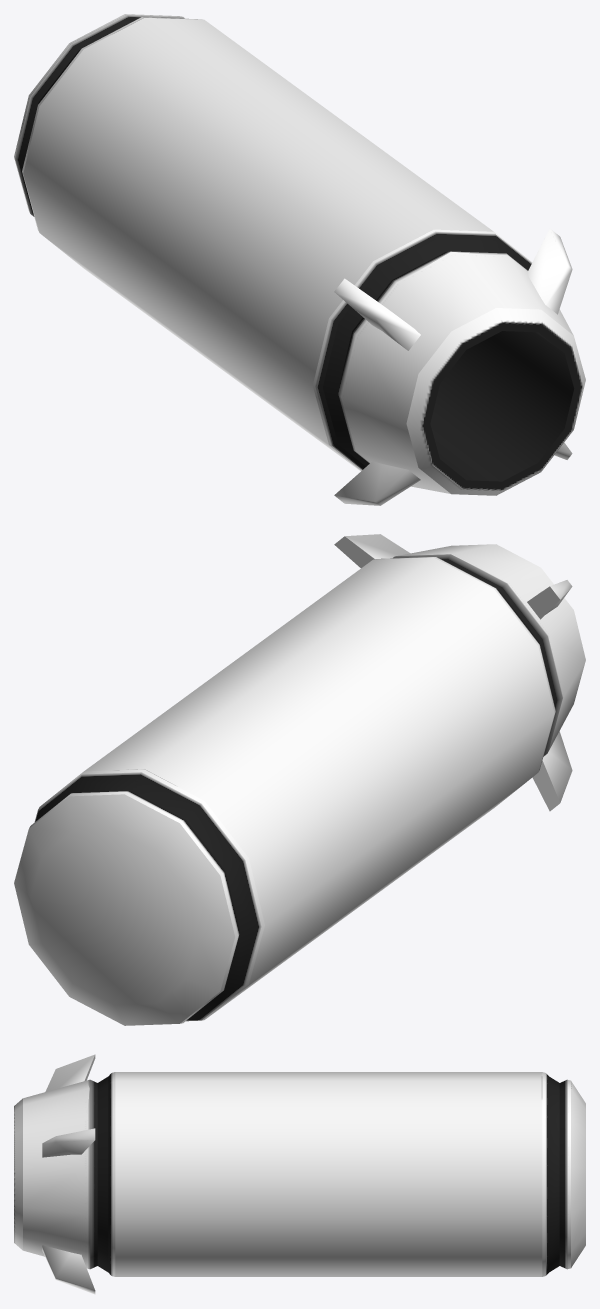
File: PistolShootingBarrel.fbx
The picture shows the model from 3 angles, top to bottom: view 1: azimuth 30°, elevation 25°; view 2: azimuth 150°, elevation 25°; view 3: azimuth 270°, elevation 25°; orthographic projection. The views are drawn at different scales.
Visible parts, largest first — view 1: Barrel.001; view 2: Barrel.001; view 3: Barrel.001.
Boxes of the visible parts, x1=… form: Barrel.001: x1=14, y1=14, x2=585, y2=505; Barrel.001: x1=14, y1=534, x2=585, y2=1025; Barrel.001: x1=14, y1=1054, x2=585, y2=1294.
Size of the model in its own units: 179 by 498 by 179.
